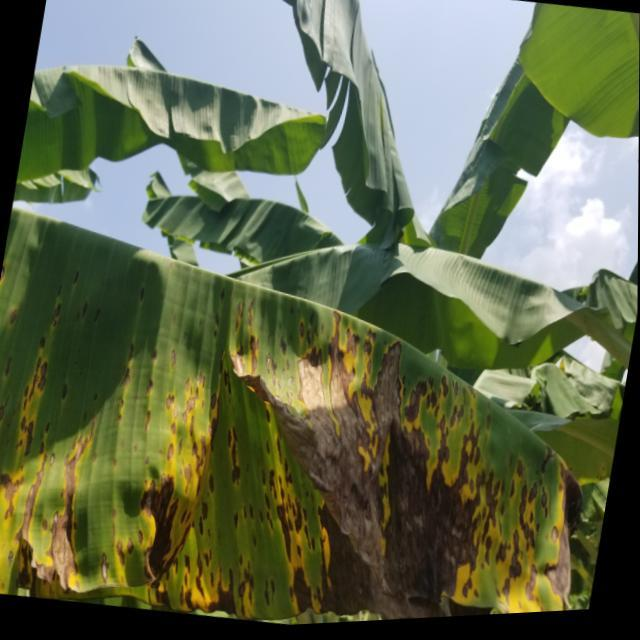Early_rust: (0, 167, 601, 640)
